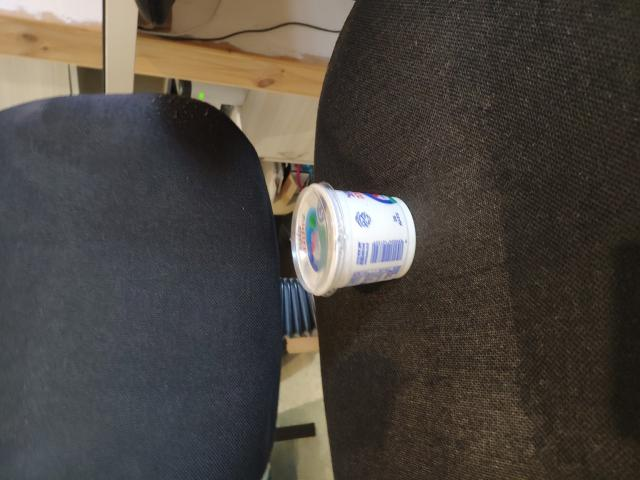cotage: (286, 186, 427, 291)
